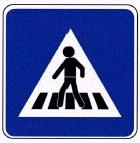Passagem para peoes: (9, 3, 137, 143)
